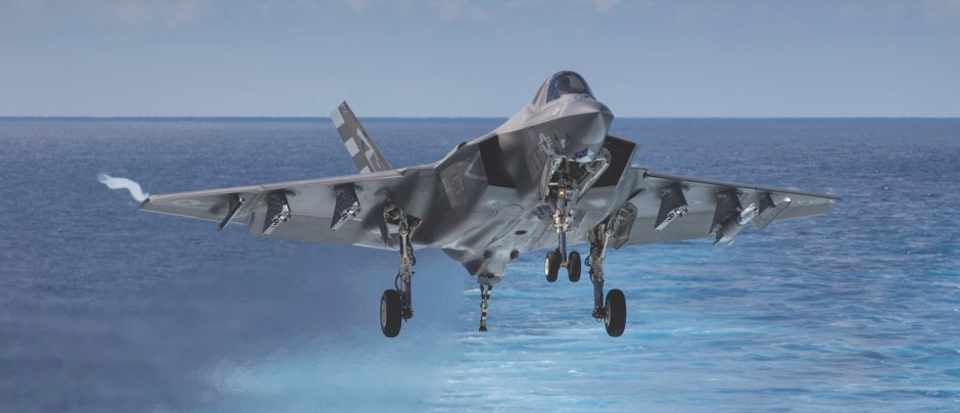F-35 Lightning: (82, 57, 857, 350)
